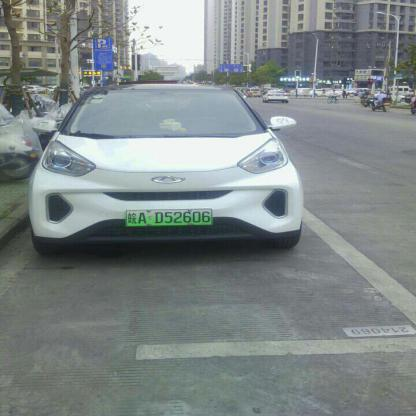lp: (126, 208, 212, 228)
